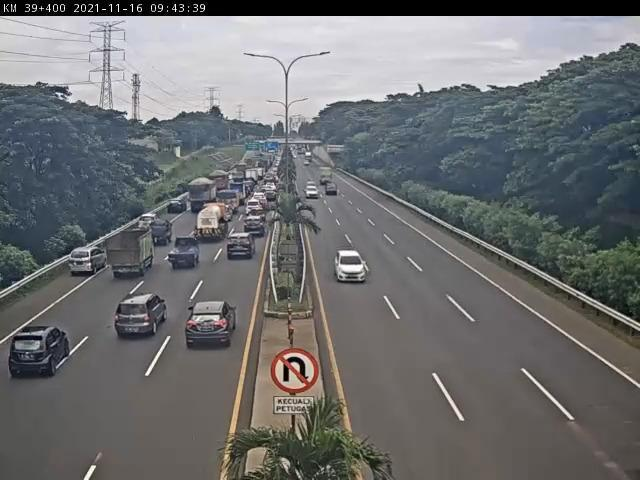car: (182, 296, 245, 358), (7, 325, 75, 382), (110, 291, 173, 344), (67, 246, 112, 280), (333, 249, 371, 287), (220, 229, 256, 265), (168, 237, 202, 271), (146, 221, 176, 246), (243, 216, 268, 239), (135, 214, 157, 233), (166, 201, 189, 218), (245, 199, 265, 216), (249, 207, 270, 221), (305, 185, 322, 201), (254, 191, 269, 205), (325, 182, 338, 198), (265, 189, 279, 202)
truck: (103, 230, 156, 280), (197, 203, 234, 244), (186, 177, 220, 215), (216, 188, 243, 216), (208, 170, 230, 194)
